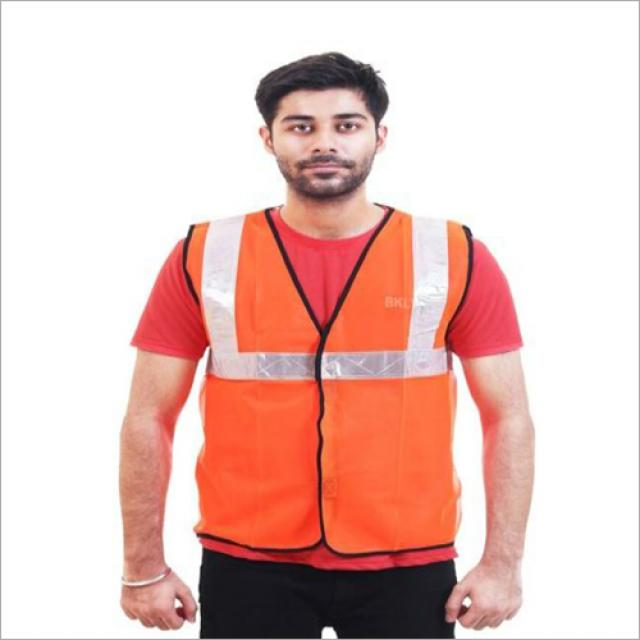Reflective-Jacket: (172, 198, 488, 560)
